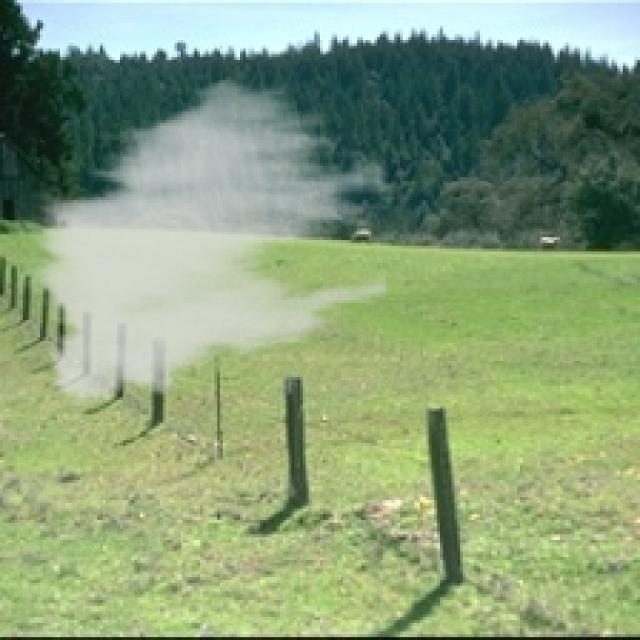smoke: (20, 69, 389, 420)
